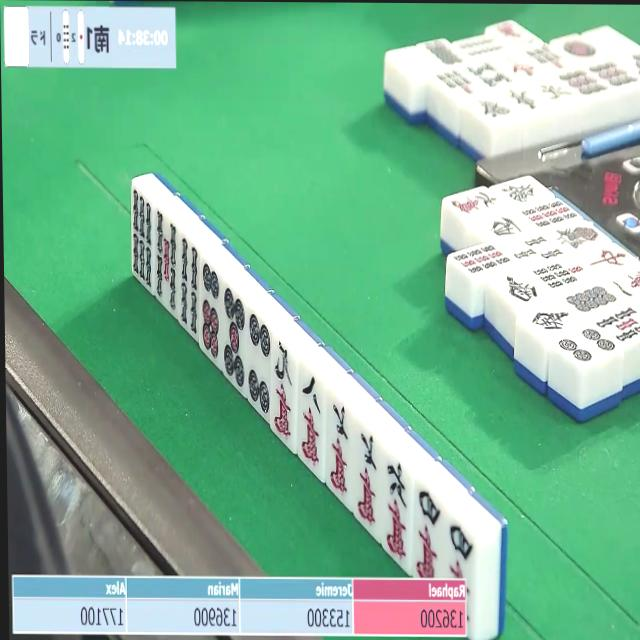4B: (176, 236, 200, 338)
4C: (411, 477, 446, 580)
4D: (248, 304, 272, 419), (445, 509, 474, 580)
5B: (153, 211, 180, 312)
5D: (223, 285, 246, 393)
6B: (130, 188, 154, 292)
6C: (382, 453, 413, 571)
6D: (198, 262, 223, 365)
7C: (355, 430, 381, 533), (327, 394, 351, 503)
8C: (297, 360, 324, 476)
9C: (272, 335, 296, 446)
